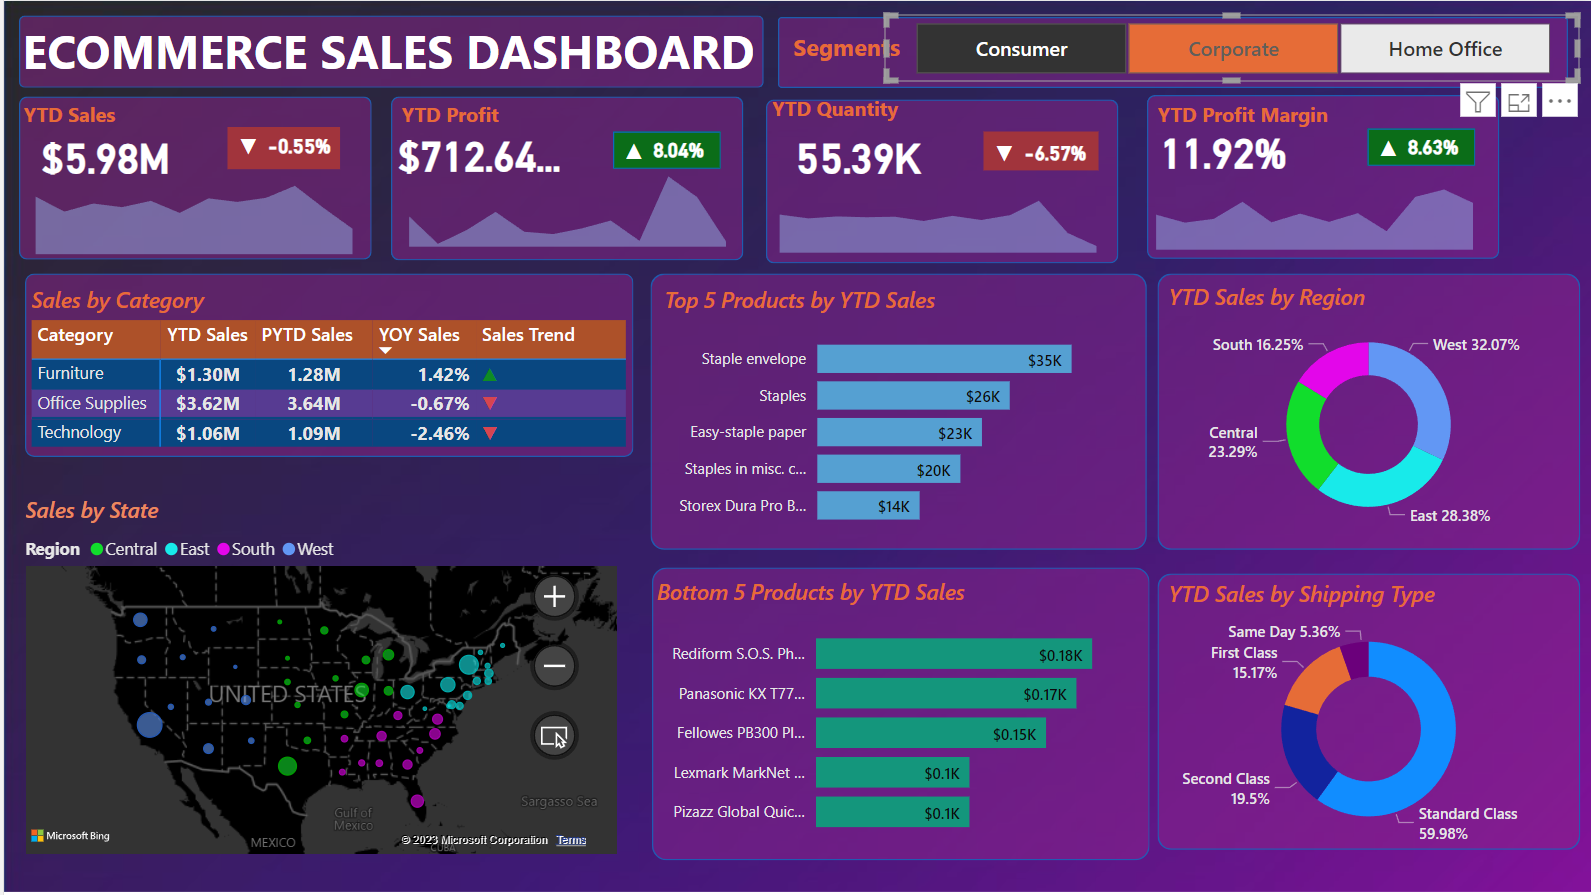

What the dashboard file says about the page in this screenshot:
{"tool":"powerbi","page":{"name":"Page 1","canvas":[1280,720],"ordinal":0},"visuals":[{"type":"shape","box":[11.5,10,599.8,60.3],"z":0},{"type":"textbox","box":[0,10,630,60.3],"z":1000},{"type":"shape","box":[11.5,74.6,284.1,133.5],"z":2000},{"type":"card","fields":{"Values":["ecommerce_data.YTD Sales"]},"box":[10.9,103.8,141.3,41.1],"z":3000},{"type":"areaChart","fields":{"Category":["Calender.Month"],"Y":["Sum(ecommerce_data.sales_per_order)"]},"box":[10.9,129.2,283.8,79.7],"z":4000},{"type":"shape","box":[311.5,74.9,283.8,134],"z":5000},{"type":"shape","box":[179.9,101.4,90.6,33.8],"z":6000},{"type":"card","fields":{"Values":["ecommerce_data.YOY Sales"]},"box":[178.7,90.6,117.1,54.3],"z":7000},{"type":"card","fields":{"Values":["ecommerce_data.Sales Icon"]},"box":[179.9,103.8,32.6,26.6],"z":8000},{"type":"textbox","box":[10.9,74.9,107.5,33.8],"z":9000},{"type":"areaChart","fields":{"Category":["Calender.Month"],"Y":["Sum(ecommerce_data.profit_per_order)"]},"box":[311.5,123.2,283.8,79.7],"z":10000},{"type":"card","fields":{"Values":["ecommerce_data.YTD SALES"]},"box":[311.5,94.2,141.3,56.8],"z":11000},{"type":"textbox","box":[97.8,103.8,9.7,9.7],"z":12000},{"type":"textbox","box":[315.2,74.9,112.3,33.8],"z":13000},{"type":"shape","box":[490.3,105.1,86.9,30.2],"z":14000},{"type":"card","fields":{"Values":["ecommerce_data.Profit Icon"]},"box":[490.3,107.5,32.6,30.2],"z":15000},{"type":"card","fields":{"Values":["ecommerce_data.YOY PROFIT"]},"box":[507.2,105.1,71.2,31.4],"z":16000},{"type":"shape","box":[613.4,77.3,283.8,134],"z":17000},{"type":"areaChart","fields":{"Category":["Calender.Month"],"Y":["Sum(ecommerce_data.order_quantity)"]},"box":[609.7,128.3,283.8,79.7],"z":18000},{"type":"textbox","box":[613.4,70,124.4,43.5],"z":19000},{"type":"shape","box":[788.5,105.1,93,31.4],"z":20000},{"type":"card","fields":{"Values":["ecommerce_data.Qty Icon"]},"box":[788.5,108.7,32.6,30.2],"z":21000},{"type":"card","fields":{"Values":["ecommerce_data.YOY Qty"]},"box":[810.3,107.5,71.2,31.4],"z":22000},{"type":"card","fields":{"Values":["ecommerce_data.YTD Qty"]},"box":[623.1,102.6,128,42.3],"z":23000},{"type":"shape","box":[920.2,73.7,283.8,134],"z":24000},{"type":"areaChart","fields":{"Category":["Calender.Month"],"Y":["ecommerce_data.Profit Margin"]},"box":[912.9,125.6,283.8,79.7],"z":25000},{"type":"shape","box":[1098.9,102.6,86.9,30.2],"z":26000},{"type":"card","fields":{"Values":["ecommerce_data.Profit Margin Icon"]},"box":[1098.9,105.1,32.6,30.2],"z":27000},{"type":"card","fields":{"Values":["ecommerce_data.YOY Profit Margin"]},"box":[1115.8,102.6,71.2,31.4],"z":28000},{"type":"textbox","box":[923.8,74.9,175.1,37.4],"z":29000},{"type":"shape","box":[16.9,217.4,490.3,149.7],"z":29500},{"type":"card","fields":{"Values":["ecommerce_data.YTD Profit Margin"]},"box":[922.6,97.8,117.1,44.7],"z":30000},{"type":"pivotTable","title":"Sales by Category","fields":{"Rows":["ecommerce_data.category_name"],"Values":["ecommerce_data.YTD Sales","ecommerce_data.PYTD Sales","ecommerce_data.YOY Sales","ecommerce_data.Sales Icon"]},"box":[16.9,228.2,490.3,152.2],"z":31000},{"type":"shape","box":[623.1,10.9,636.4,59.2],"z":31001},{"type":"map","title":"Sales by State","fields":{"Y":["us_state_long_lat_codes.latitude"],"X":["us_state_long_lat_codes.longitude"],"Size":["ecommerce_data.YTD Sales"],"Series":["ecommerce_data.customer_region"]},"box":[12.1,397.3,486.6,294.6],"z":31002},{"type":"shape","box":[520.5,217.4,399.7,224.6],"z":31003},{"type":"shape","box":[521.7,454,400.9,237.9],"z":31004},{"type":"clusteredBarChart","title":"Top 5 Products by YTD Sales","fields":{"Category":["ecommerce_data.product_name"],"Y":["ecommerce_data.YTD Sales"]},"box":[526.6,228.2,386,206.6],"z":31005},{"type":"clusteredBarChart","title":"Bottom 5 Products by YTD Sales","fields":{"Category":["ecommerce_data.product_name"],"Y":["ecommerce_data.YTD Sales"]},"box":[520.5,463.7,400.9,219.8],"z":31006},{"type":"shape","box":[928.6,217.4,340.5,224.6],"z":31007},{"type":"shape","box":[928.6,458.9,340.5,224.6],"z":31008},{"type":"donutChart","title":"YTD Sales by Region","fields":{"Y":["ecommerce_data.YTD Sales"],"Category":["ecommerce_data.customer_region"]},"box":[932.2,225.8,332.1,206.5],"z":31009},{"type":"donutChart","title":"YTD Sales by Shipping Type","fields":{"Y":["ecommerce_data.YTD Sales"],"Category":["ecommerce_data.shipping_type"]},"box":[932.2,464.9,332.1,218.6],"z":31010},{"type":"slicer","fields":{"Values":["ecommerce_data.customer_segment"]},"box":[708.8,10.9,560.3,54.3],"z":31012},{"type":"textbox","box":[630.3,19.3,111.1,37.4],"z":31013}]}

Visuals, with their boxes in screenshot pixels (x1, y1, x2, y2), scaled from the page's 1280x720 canvas onto the 1591x895 screenshot:
shape: box(14, 12, 760, 87)
textbox: box(0, 12, 783, 87)
shape: box(14, 93, 367, 259)
card - ecommerce_data.YTD Sales: box(14, 129, 189, 180)
areaChart - Calender.Month x Sum(ecommerce_data.sales_per_order): box(14, 161, 366, 260)
shape: box(387, 93, 740, 260)
shape: box(224, 126, 336, 168)
card - ecommerce_data.YOY Sales: box(222, 113, 368, 180)
card - ecommerce_data.Sales Icon: box(224, 129, 264, 162)
textbox: box(14, 93, 147, 135)
areaChart - Calender.Month x Sum(ecommerce_data.profit_per_order): box(387, 153, 740, 252)
card - ecommerce_data.YTD SALES: box(387, 117, 563, 188)
textbox: box(122, 129, 134, 141)
textbox: box(392, 93, 531, 135)
shape: box(609, 131, 717, 168)
card - ecommerce_data.Profit Icon: box(609, 134, 650, 171)
card - ecommerce_data.YOY PROFIT: box(630, 131, 719, 170)
shape: box(762, 96, 1115, 263)
areaChart - Calender.Month x Sum(ecommerce_data.order_quantity): box(758, 159, 1111, 259)
textbox: box(762, 87, 917, 141)
shape: box(980, 131, 1096, 170)
card - ecommerce_data.Qty Icon: box(980, 135, 1021, 173)
card - ecommerce_data.YOY Qty: box(1007, 134, 1096, 173)
card - ecommerce_data.YTD Qty: box(774, 128, 934, 180)
shape: box(1144, 92, 1497, 258)
areaChart - Calender.Month x ecommerce_data.Profit Margin: box(1135, 156, 1487, 255)
shape: box(1366, 128, 1474, 165)
card - ecommerce_data.Profit Margin Icon: box(1366, 131, 1406, 168)
card - ecommerce_data.YOY Profit Margin: box(1387, 128, 1475, 167)
textbox: box(1148, 93, 1366, 140)
shape: box(21, 270, 630, 456)
card - ecommerce_data.YTD Profit Margin: box(1147, 122, 1292, 177)
"Sales by Category" pivotTable: box(21, 284, 630, 473)
shape: box(774, 14, 1566, 87)
"Sales by State" map: box(15, 494, 620, 860)
shape: box(647, 270, 1144, 549)
shape: box(648, 564, 1147, 860)
"Top 5 Products by YTD Sales" clusteredBarChart: box(655, 284, 1134, 540)
"Bottom 5 Products by YTD Sales" clusteredBarChart: box(647, 576, 1145, 850)
shape: box(1154, 270, 1577, 549)
shape: box(1154, 570, 1577, 850)
"YTD Sales by Region" donutChart: box(1159, 281, 1571, 537)
"YTD Sales by Shipping Type" donutChart: box(1159, 578, 1571, 850)
slicer - ecommerce_data.customer_segment: box(881, 14, 1577, 81)
textbox: box(783, 24, 922, 70)
